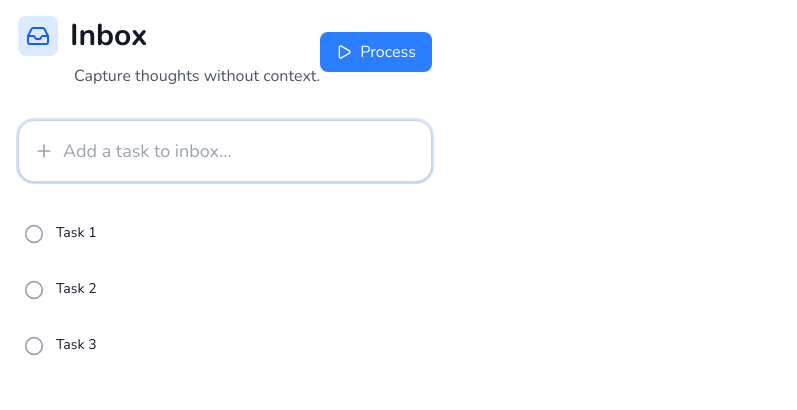
InboxView Processing Mode › handles keyboard shortcut J to skip
This screenshot has width=797, height=410.
Click the button "Process": (376, 52) [320, 32, 432, 72]
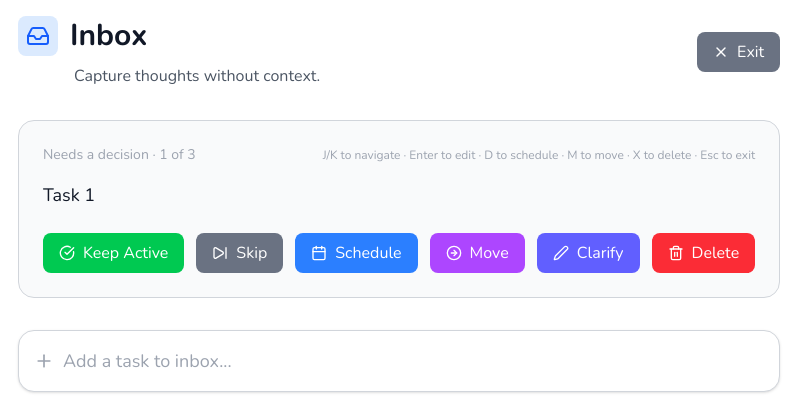
Check: the text "Task 1" is shown, box [43, 183, 95, 207]
Press j
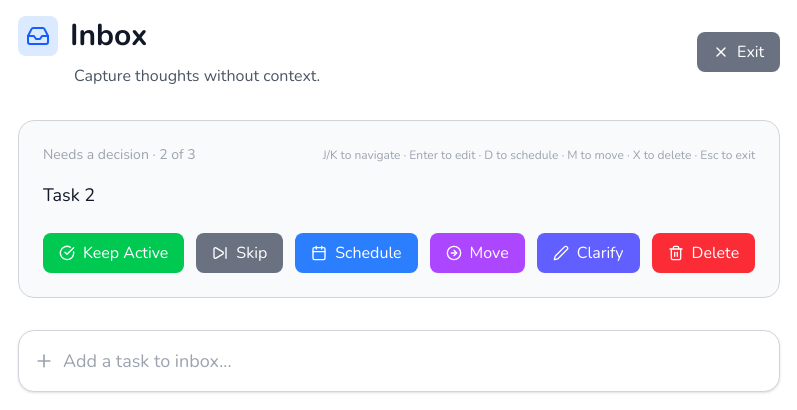
Check: the text "Task 2" is shown, box [43, 183, 95, 207]
